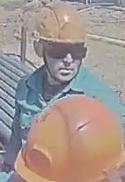goggles: (46, 43, 88, 60)
helmet: (13, 94, 124, 181), (36, 0, 87, 43)
vest: (13, 68, 125, 142)
